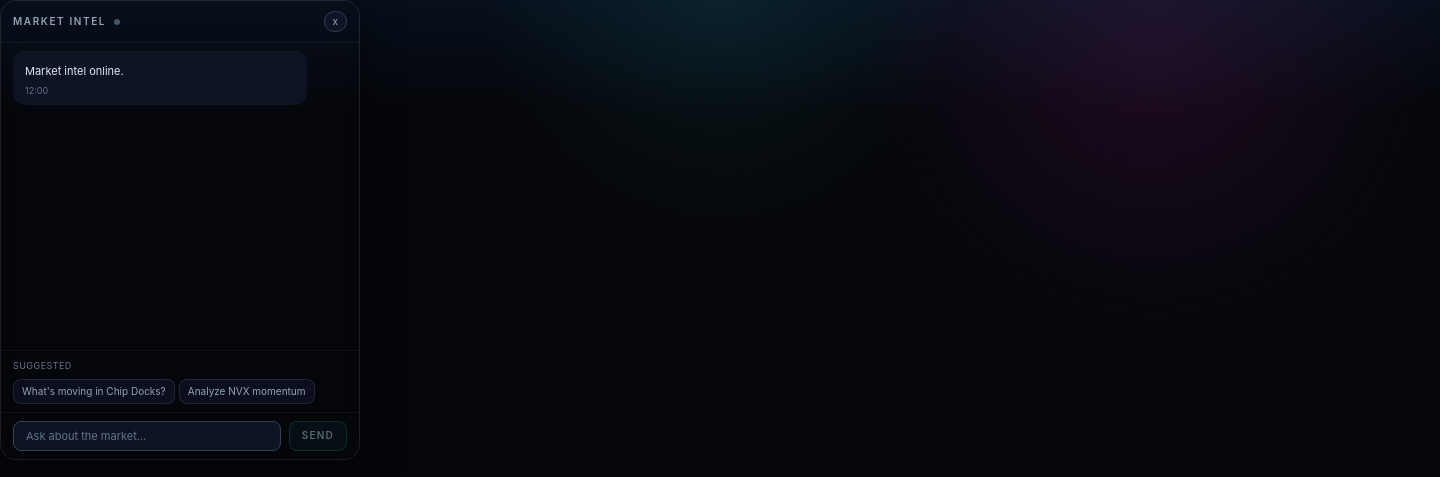
Test: FloatingChatPanel › send button becomes enabled when user types
Type "hello" into the field with placeholder "Ask about the market..." at [147, 436], box left=13, top=420, right=281, bottom=451
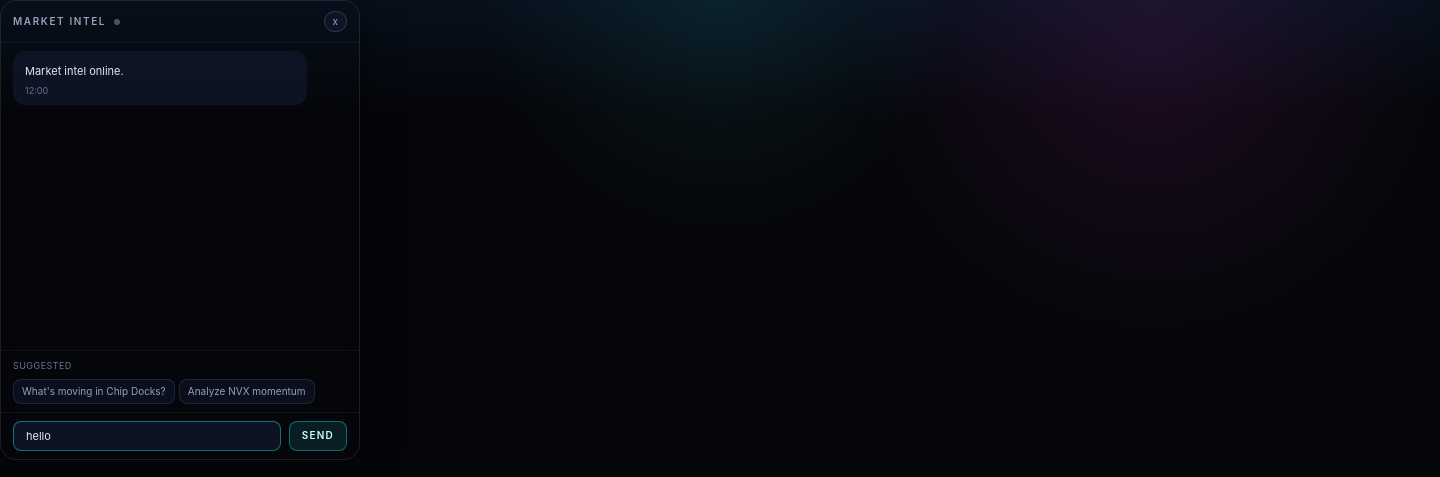
Now the button "Send" is enabled, box left=289, top=420, right=347, bottom=451
